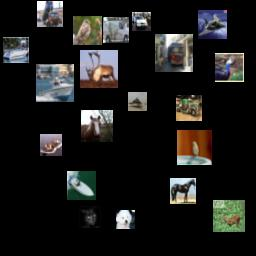airplane: (198, 10, 227, 39), (128, 92, 147, 111)
automobile: (132, 12, 151, 31)
bird: (177, 130, 212, 165), (73, 16, 102, 45), (215, 53, 244, 82)
cat: (79, 206, 101, 228)
deer: (80, 50, 118, 88), (213, 200, 245, 232)
dog: (116, 210, 135, 229)
ship: (36, 64, 74, 102), (67, 171, 96, 200), (3, 37, 29, 63), (40, 134, 62, 156)
truck: (155, 34, 193, 72), (176, 95, 202, 121), (103, 17, 129, 43), (37, 1, 63, 27)
